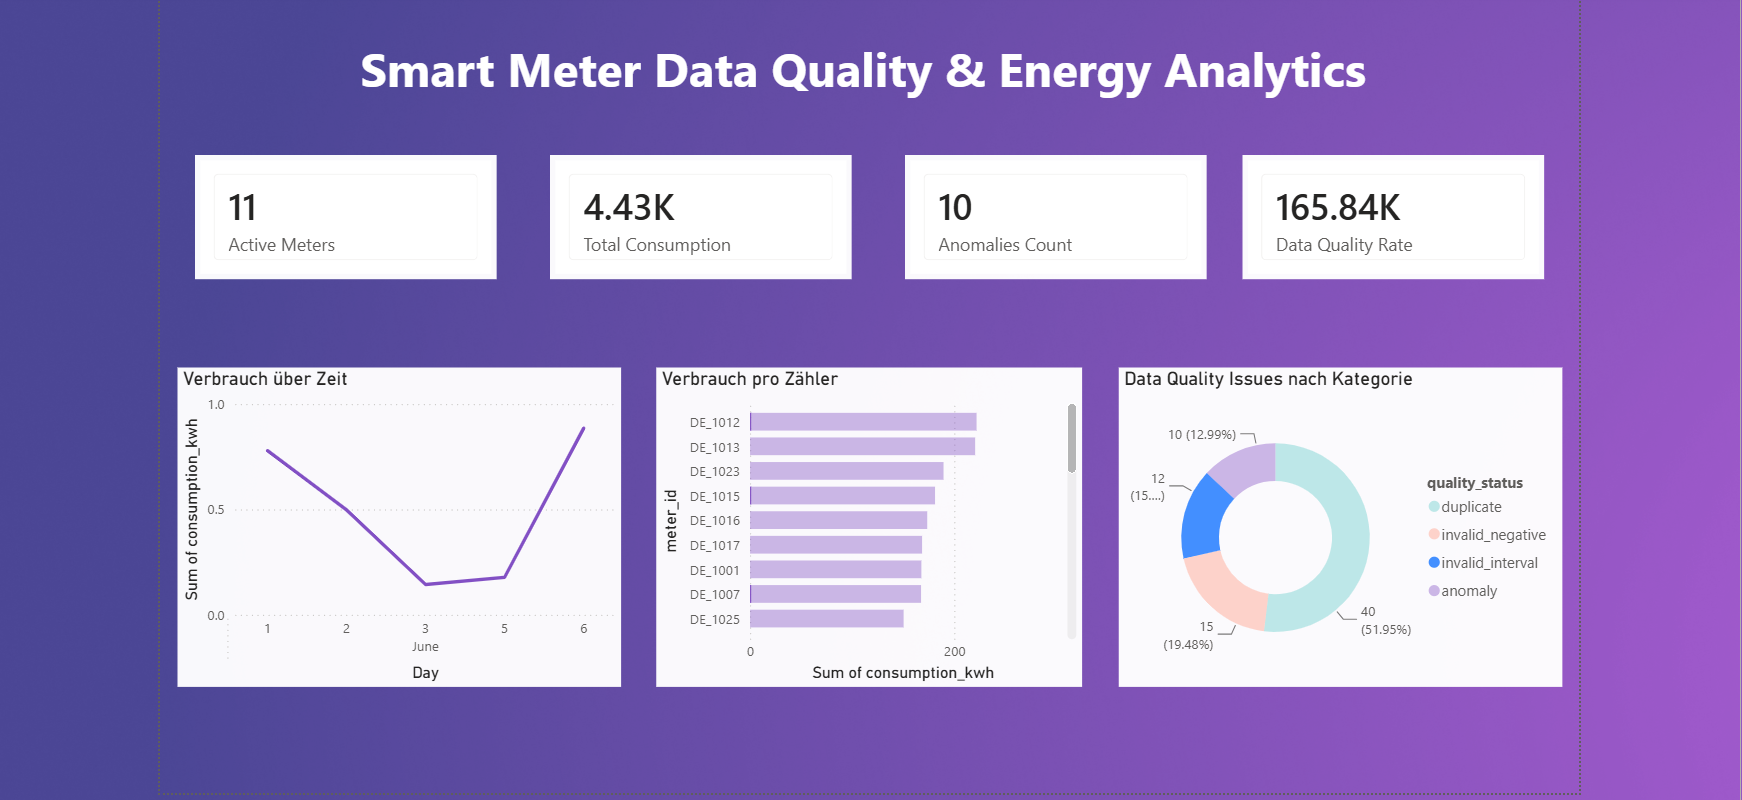

The dashboard page shown, as its layout file describes it:
{"tool":"powerbi","page":{"name":"Page 1","canvas":[1280,720],"ordinal":0},"visuals":[{"type":"cardVisual","fields":{"Data":["smart_meter_cleaned.Active Meters"]},"box":[32,144,272,112],"z":0},{"type":"cardVisual","fields":{"Data":["smart_meter_cleaned.Anomalies Count"]},"box":[672,144,272,112],"z":1},{"type":"cardVisual","fields":{"Data":["smart_meter_cleaned.Total Consumption"]},"box":[352,144,272,112],"z":2},{"type":"cardVisual","fields":{"Data":["smart_meter_cleaned.Data Quality Rate"]},"box":[976,144,272,112],"z":3},{"type":"lineChart","title":"Verbrauch über Zeit","fields":{"Y":["Sum(smart_meter_cleaned.consumption_kwh)"],"Category":["smart_meter_cleaned.timestamp.Variation.Date Hierarchy.Month","smart_meter_cleaned.timestamp.Variation.Date Hierarchy.Day"]},"box":[16,336,400,288],"z":4},{"type":"barChart","title":"Verbrauch pro Zähler","fields":{"Category":["smart_meter_cleaned.meter_id"],"Y":["Sum(smart_meter_cleaned.consumption_kwh)"]},"box":[448,336,384,288],"z":5},{"type":"donutChart","title":"Data Quality Issues nach Kategorie","fields":{"Category":["smart_meter_cleaned.quality_status"],"Y":["CountNonNull(smart_meter_cleaned.meter_id)"]},"box":[864,336,400,288],"z":6},{"type":"textbox","box":[176,32,992,80],"z":7}]}

Visuals, with their boxes in screenshot pixels (x1, y1, x2, y2):
cardVisual - smart_meter_cleaned.Active Meters: box=[198, 153, 496, 275]
cardVisual - smart_meter_cleaned.Anomalies Count: box=[898, 153, 1196, 275]
cardVisual - smart_meter_cleaned.Total Consumption: box=[548, 153, 846, 275]
cardVisual - smart_meter_cleaned.Data Quality Rate: box=[1231, 153, 1528, 275]
"Verbrauch über Zeit" lineChart: box=[181, 363, 618, 678]
"Verbrauch pro Zähler" barChart: box=[653, 363, 1073, 678]
"Data Quality Issues nach Kategorie" donutChart: box=[1108, 363, 1546, 678]
textbox: box=[356, 30, 1441, 118]
